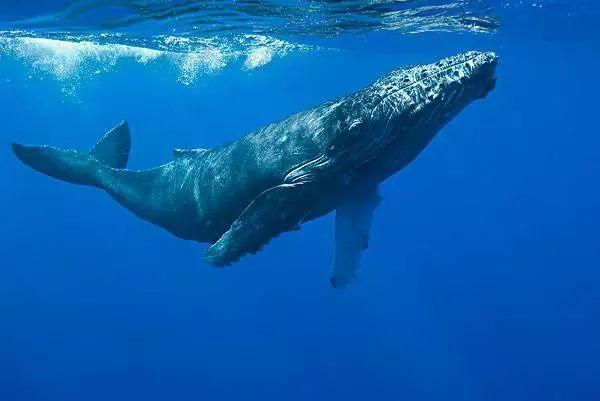fish: (8, 46, 501, 284)
